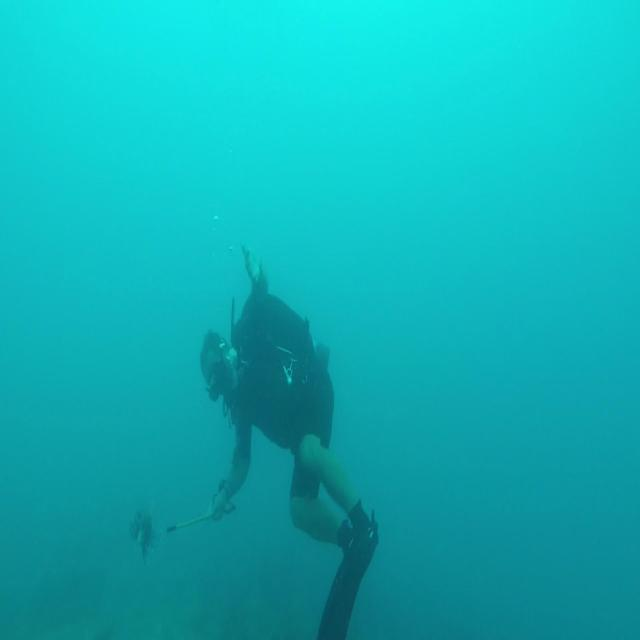human: (198, 242, 379, 637)
